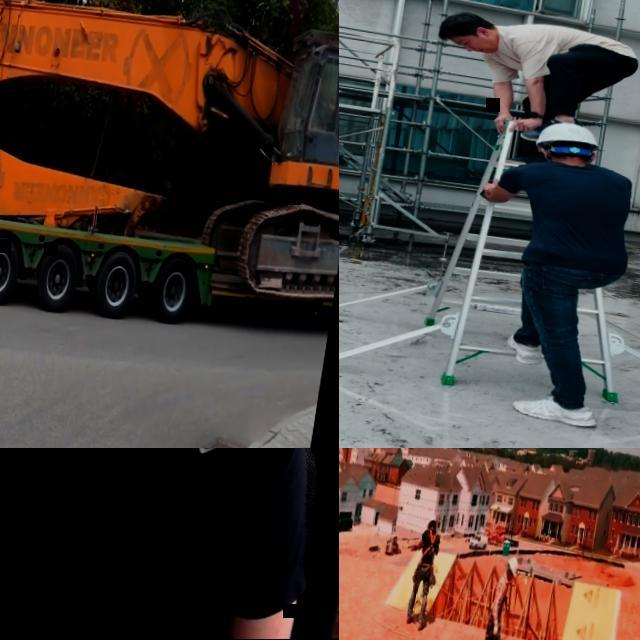helmet: (536, 118, 608, 156), (506, 557, 520, 578), (428, 516, 438, 530)
